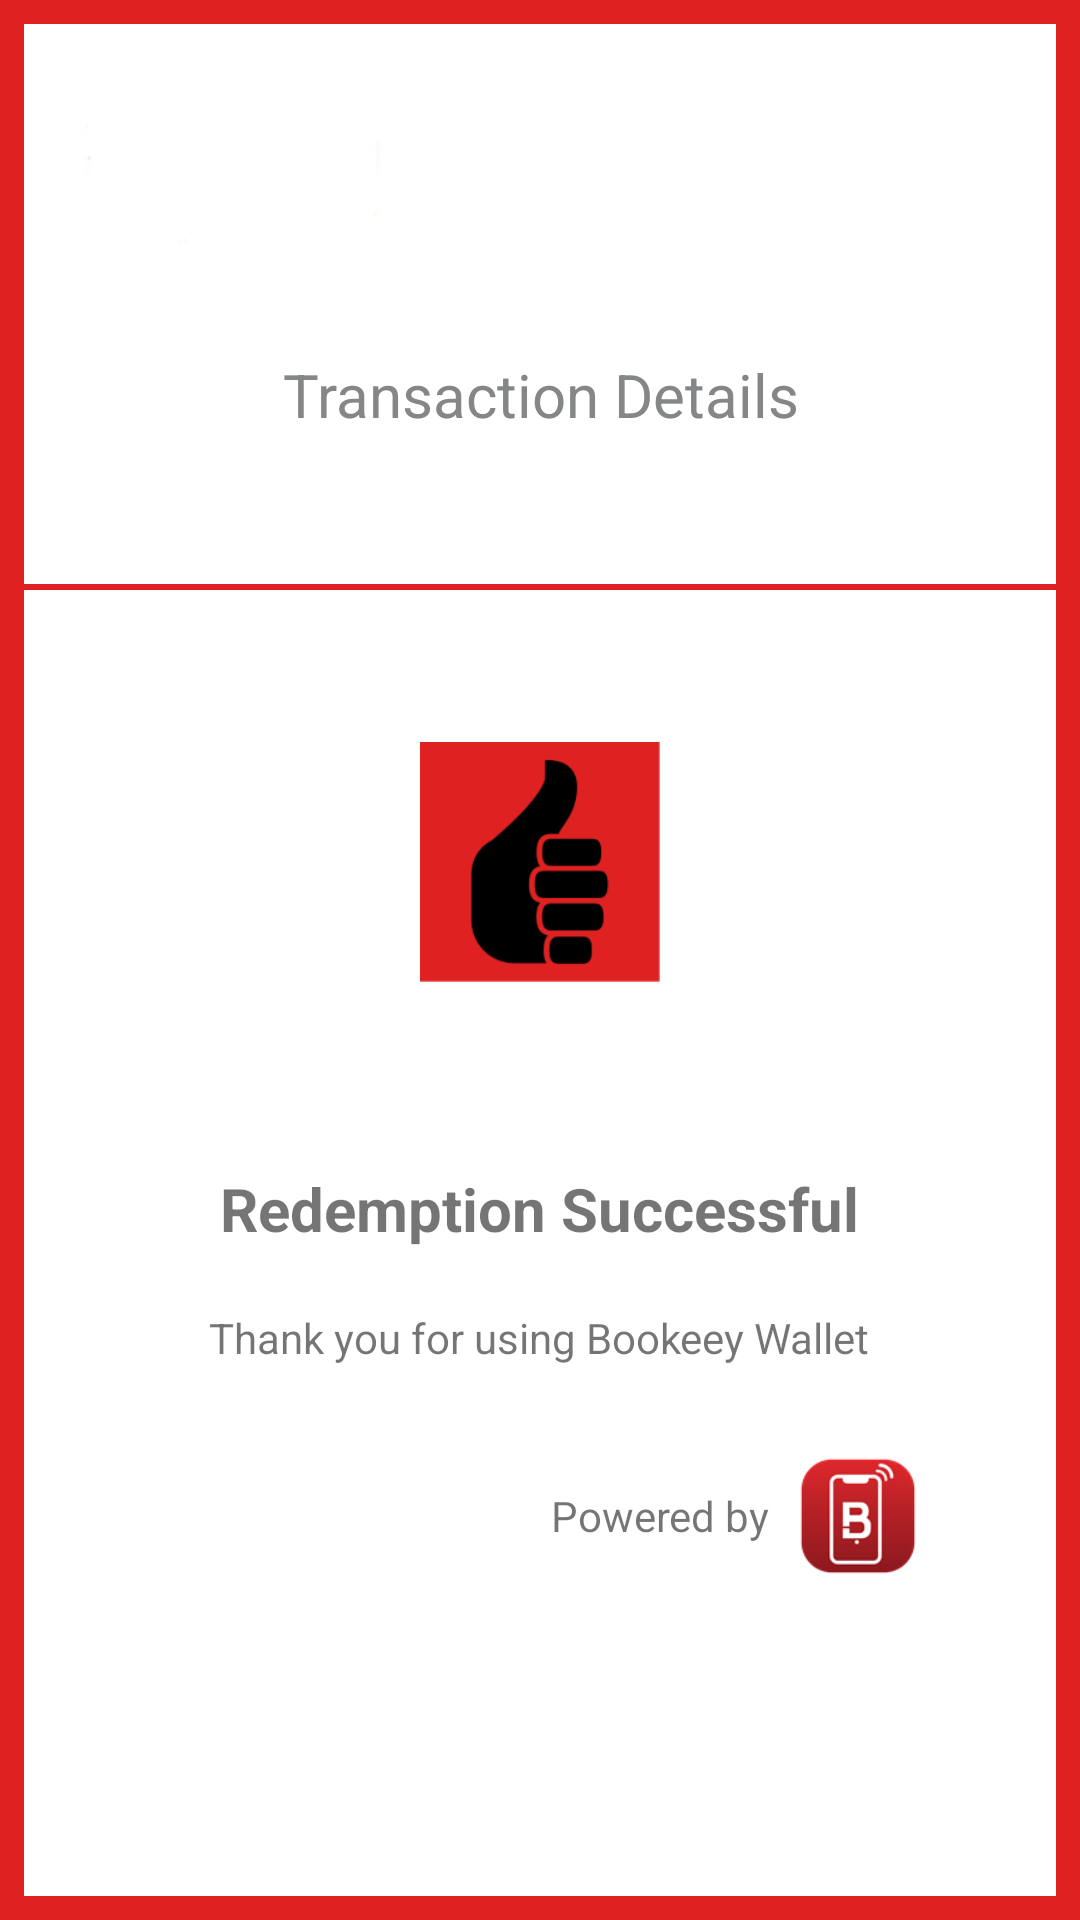

Icon bounding boxes for this 1080 x 1920 phone screenshot, format {"left": x1, "top": y1, "right": x2, "bottom": y2}:
thumb: {"left": 420, "top": 742, "right": 660, "bottom": 982}
